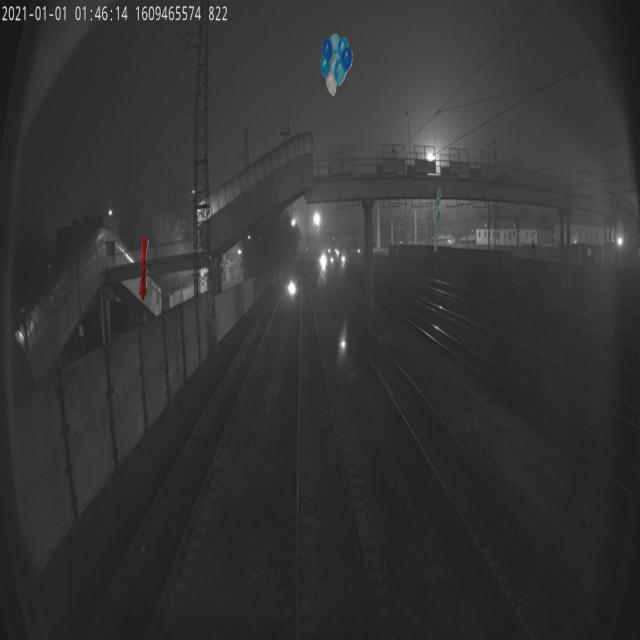balloon: (320, 32, 353, 96)
floating object: (139, 237, 149, 301), (434, 188, 441, 252)
